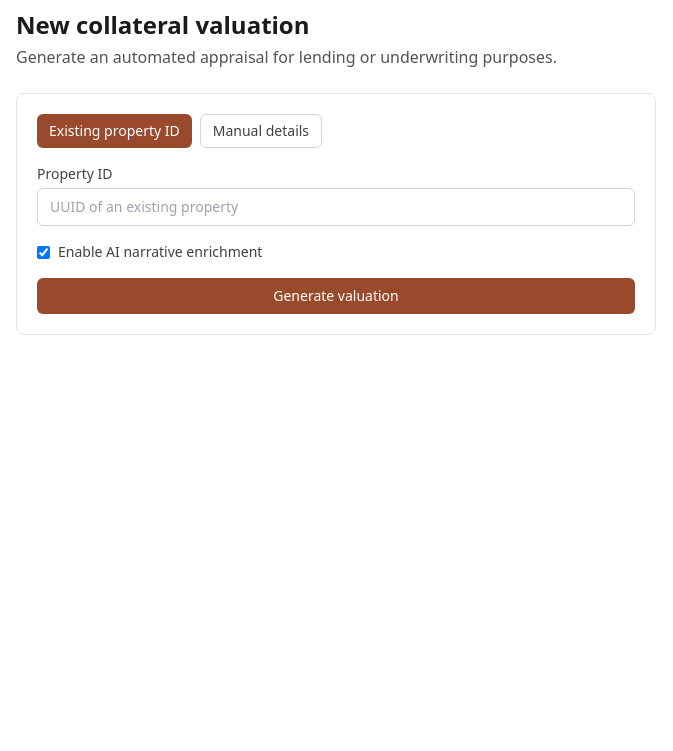
Test case: NewCollateralValuationPage › requires location, property type, and an area before submitting in manual mode
Click the button "Manual details".
click(261, 131)  # box [200, 114, 322, 148]
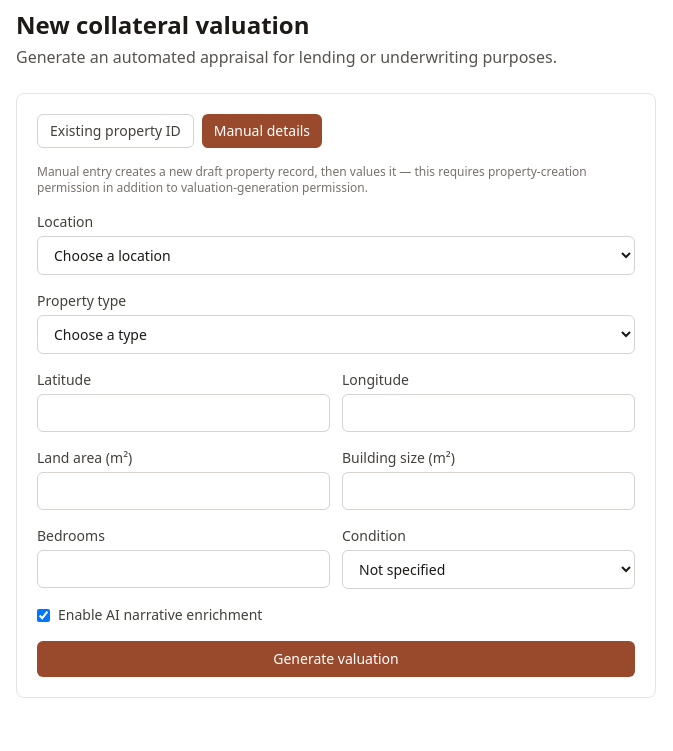
Click the button "Generate valuation".
click(336, 659)  # box [37, 641, 635, 677]
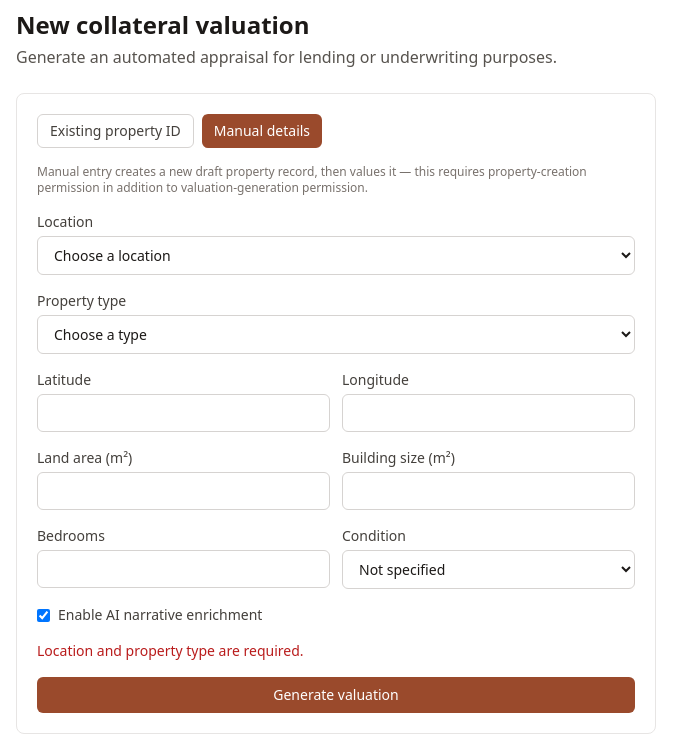
Expected: the message shows "Location and property type", [37, 641, 304, 660]
